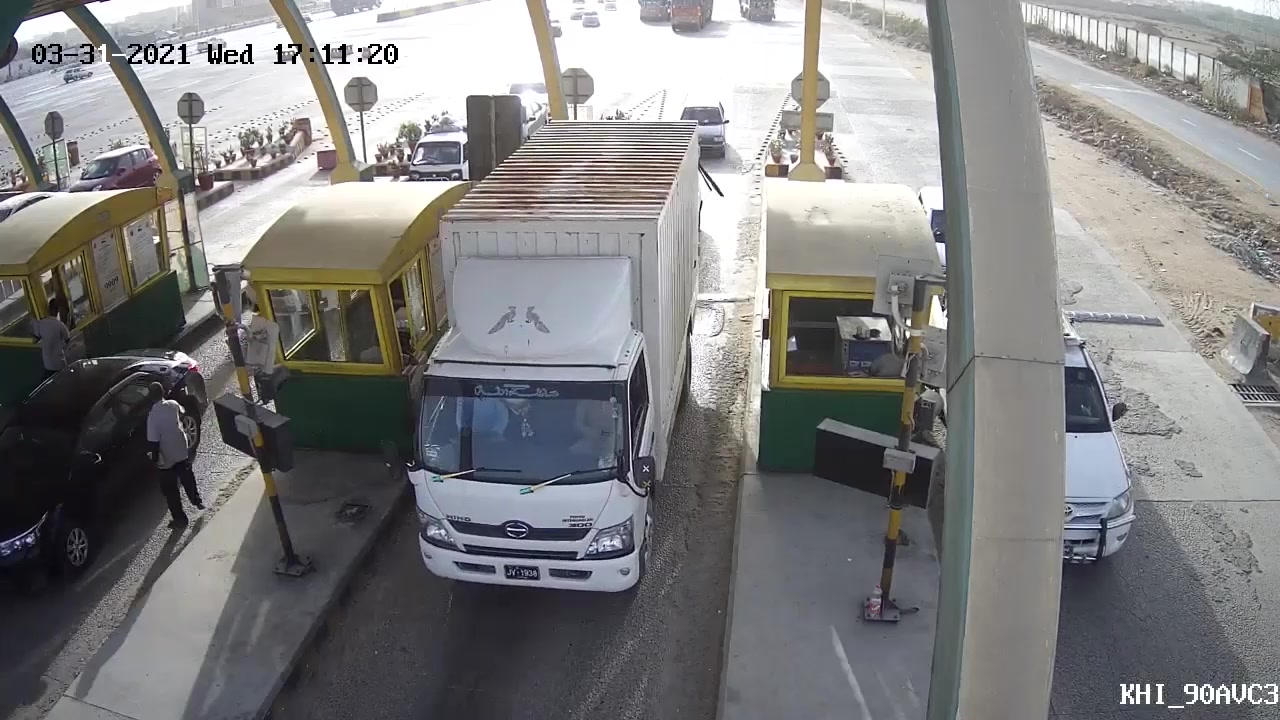F5: (395, 113, 709, 630)
